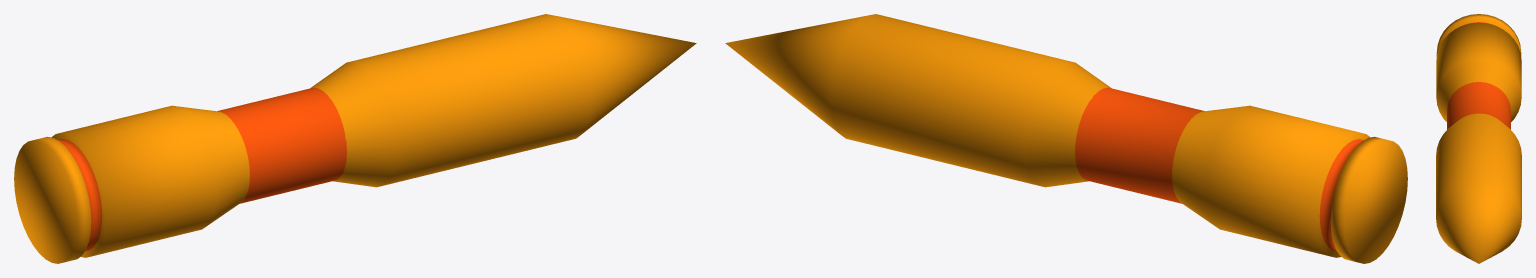
Rendered from Bullet.fbx.
The picture shows the model from 3 angles, left to right: view 1: azimuth 30°, elevation 25°; view 2: azimuth 150°, elevation 25°; view 3: azimuth 270°, elevation 25°; orthographic projection. The views are drawn at different scales.
Visible parts, largest first — view 1: DefaultBullet; view 2: DefaultBullet; view 3: DefaultBullet.
Boxes of the visible parts, box(x1,y1,x2,y2) form: DefaultBullet: box(14, 14, 696, 263); DefaultBullet: box(725, 14, 1407, 263); DefaultBullet: box(1436, 14, 1521, 263).
Size of the model in its own units: 235 by 40.27 by 40.27.
Materials: 1 (1 with a texture image).
